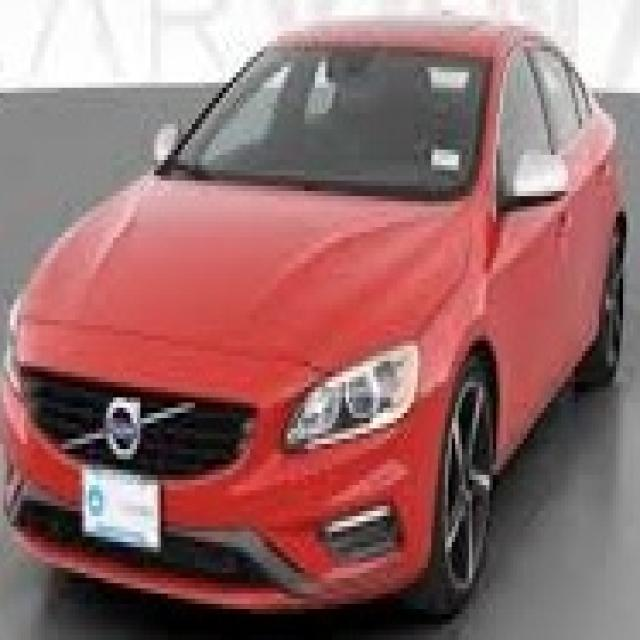red: (10, 25, 622, 640)
